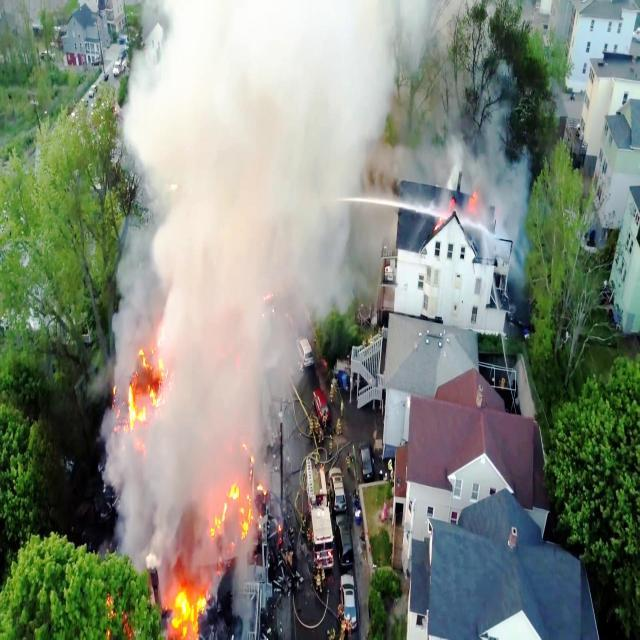Fire: (109, 346, 156, 449), (204, 482, 254, 569), (158, 585, 212, 640), (434, 178, 482, 238), (104, 591, 138, 640)
Smoke: (113, 0, 430, 345), (158, 348, 298, 473), (114, 459, 204, 581), (458, 88, 529, 182), (487, 182, 527, 245)
